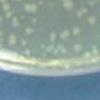white: (22, 0, 35, 15), (61, 0, 75, 12), (72, 44, 84, 56), (86, 15, 98, 27), (79, 3, 90, 16), (91, 45, 100, 57), (71, 26, 81, 36), (29, 16, 40, 25), (0, 3, 11, 12), (9, 34, 17, 46), (58, 47, 68, 56), (51, 49, 61, 58), (12, 15, 18, 30), (45, 44, 54, 53), (57, 30, 65, 40), (50, 31, 57, 42), (24, 28, 36, 34), (82, 50, 90, 59), (4, 10, 13, 18), (0, 0, 12, 6), (90, 56, 100, 63), (56, 43, 65, 50), (63, 29, 70, 38), (75, 10, 84, 17), (38, 43, 46, 50), (25, 49, 31, 57), (19, 14, 27, 20), (22, 40, 28, 46), (2, 16, 8, 22), (39, 52, 46, 57), (37, 1, 43, 6)
